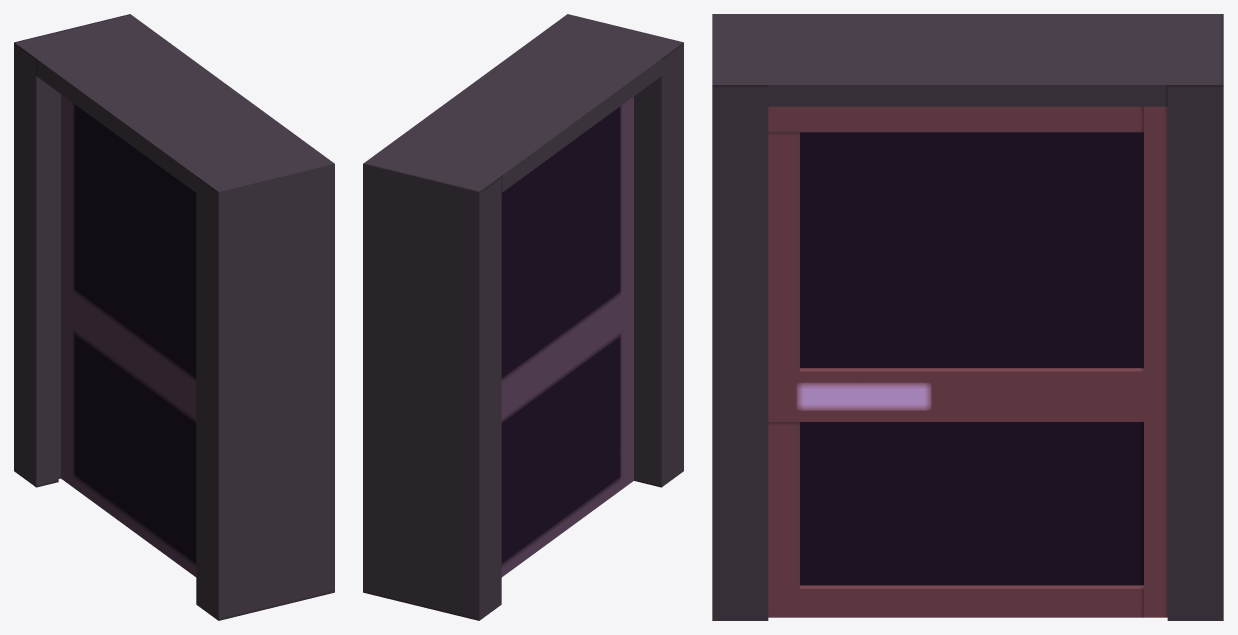
The model's file is dzwi_wyjksc_burd.dae.
3 views of the same model, side by side, from view 1: azimuth 30°, elevation 25°; view 2: azimuth 150°, elevation 25°; view 3: azimuth 270°, elevation 25° (orthographic). The views are drawn at different scales.
Visible parts, largest first — view 1: Content; view 2: Content; view 3: Content.
Boxes of the visible parts, x1=… form: Content: x1=14, y1=14, x2=334, y2=620; Content: x1=363, y1=14, x2=683, y2=620; Content: x1=712, y1=14, x2=1223, y2=620.
Size of the model in its own units: 21 by 74 by 64.
1 material, 1 textured.
